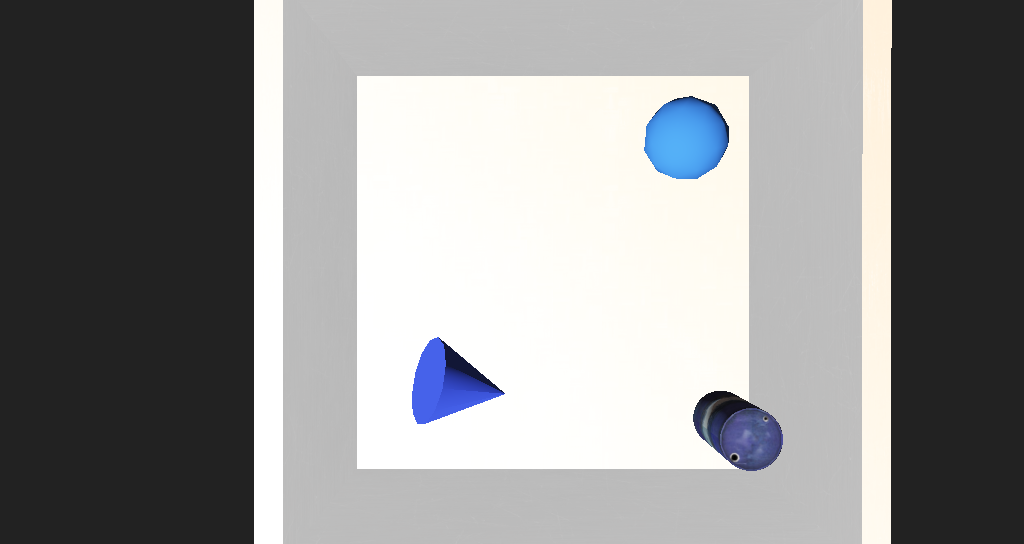cone: (616, 334, 677, 372)
cylinder: (387, 303, 488, 365)
sphere: (576, 172, 637, 220)
